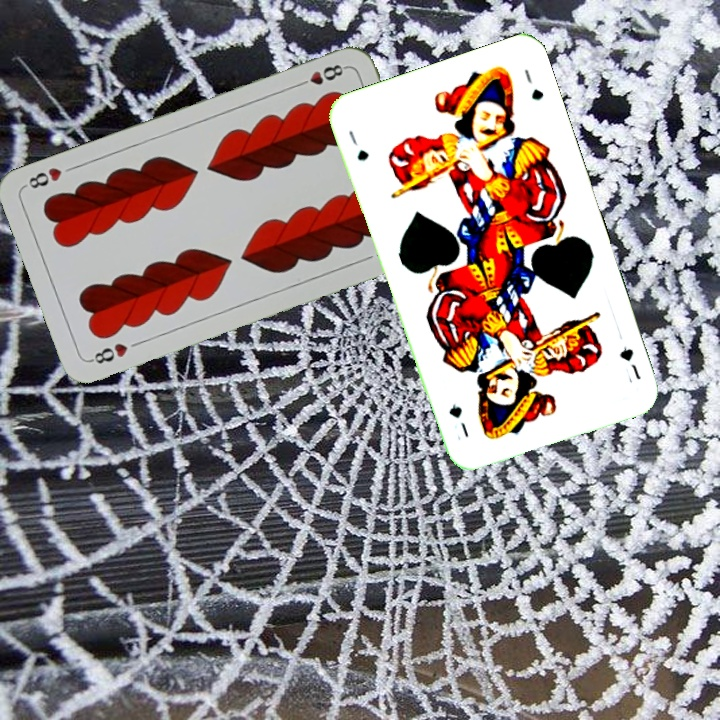GU: (615, 342, 644, 386), (344, 126, 371, 164)
H8: (293, 60, 350, 90), (86, 339, 131, 367)
